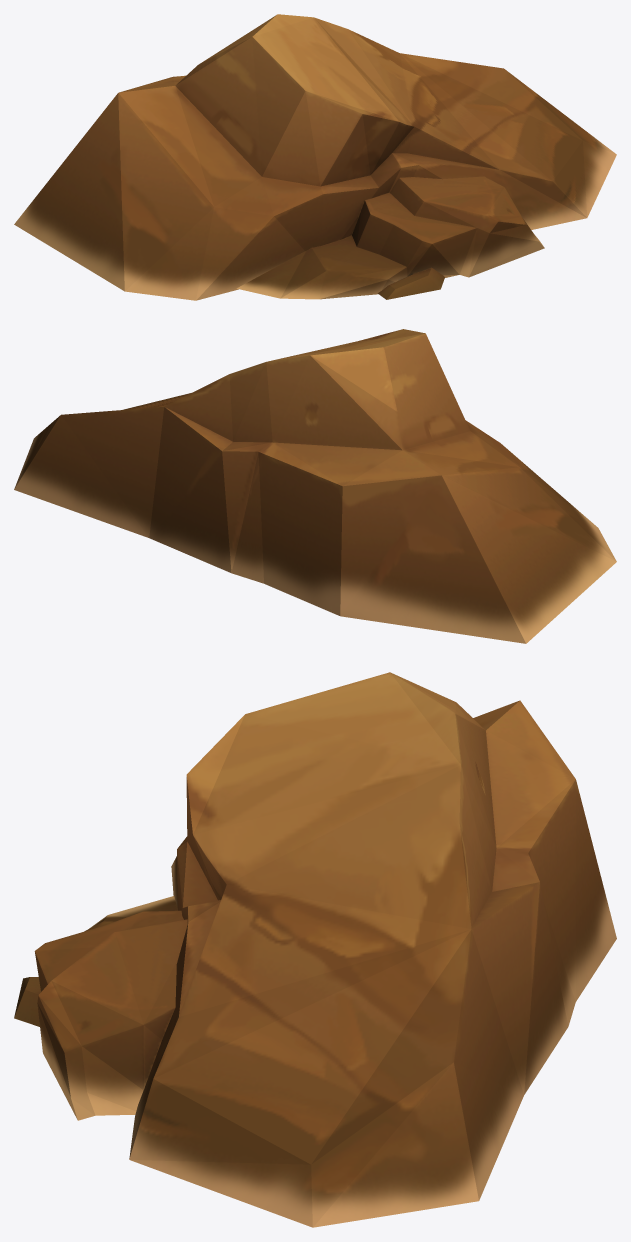
The model's file is difuchangjing_shitou07.FBX.
3 views of the same model, one above another, from view 1: azimuth 30°, elevation 25°; view 2: azimuth 150°, elevation 25°; view 3: azimuth 270°, elevation 25° (orthographic). The views are drawn at different scales.
Visible parts, largest first — view 1: difuchangjing_shitou07; view 2: difuchangjing_shitou07; view 3: difuchangjing_shitou07.
Part boxes in pixels (x1,y1,x2,y2): difuchangjing_shitou07: (14,14,616,300); difuchangjing_shitou07: (14,329,616,643); difuchangjing_shitou07: (14,672,616,1227).
Size of the model in its own units: 596 by 203 by 373.
